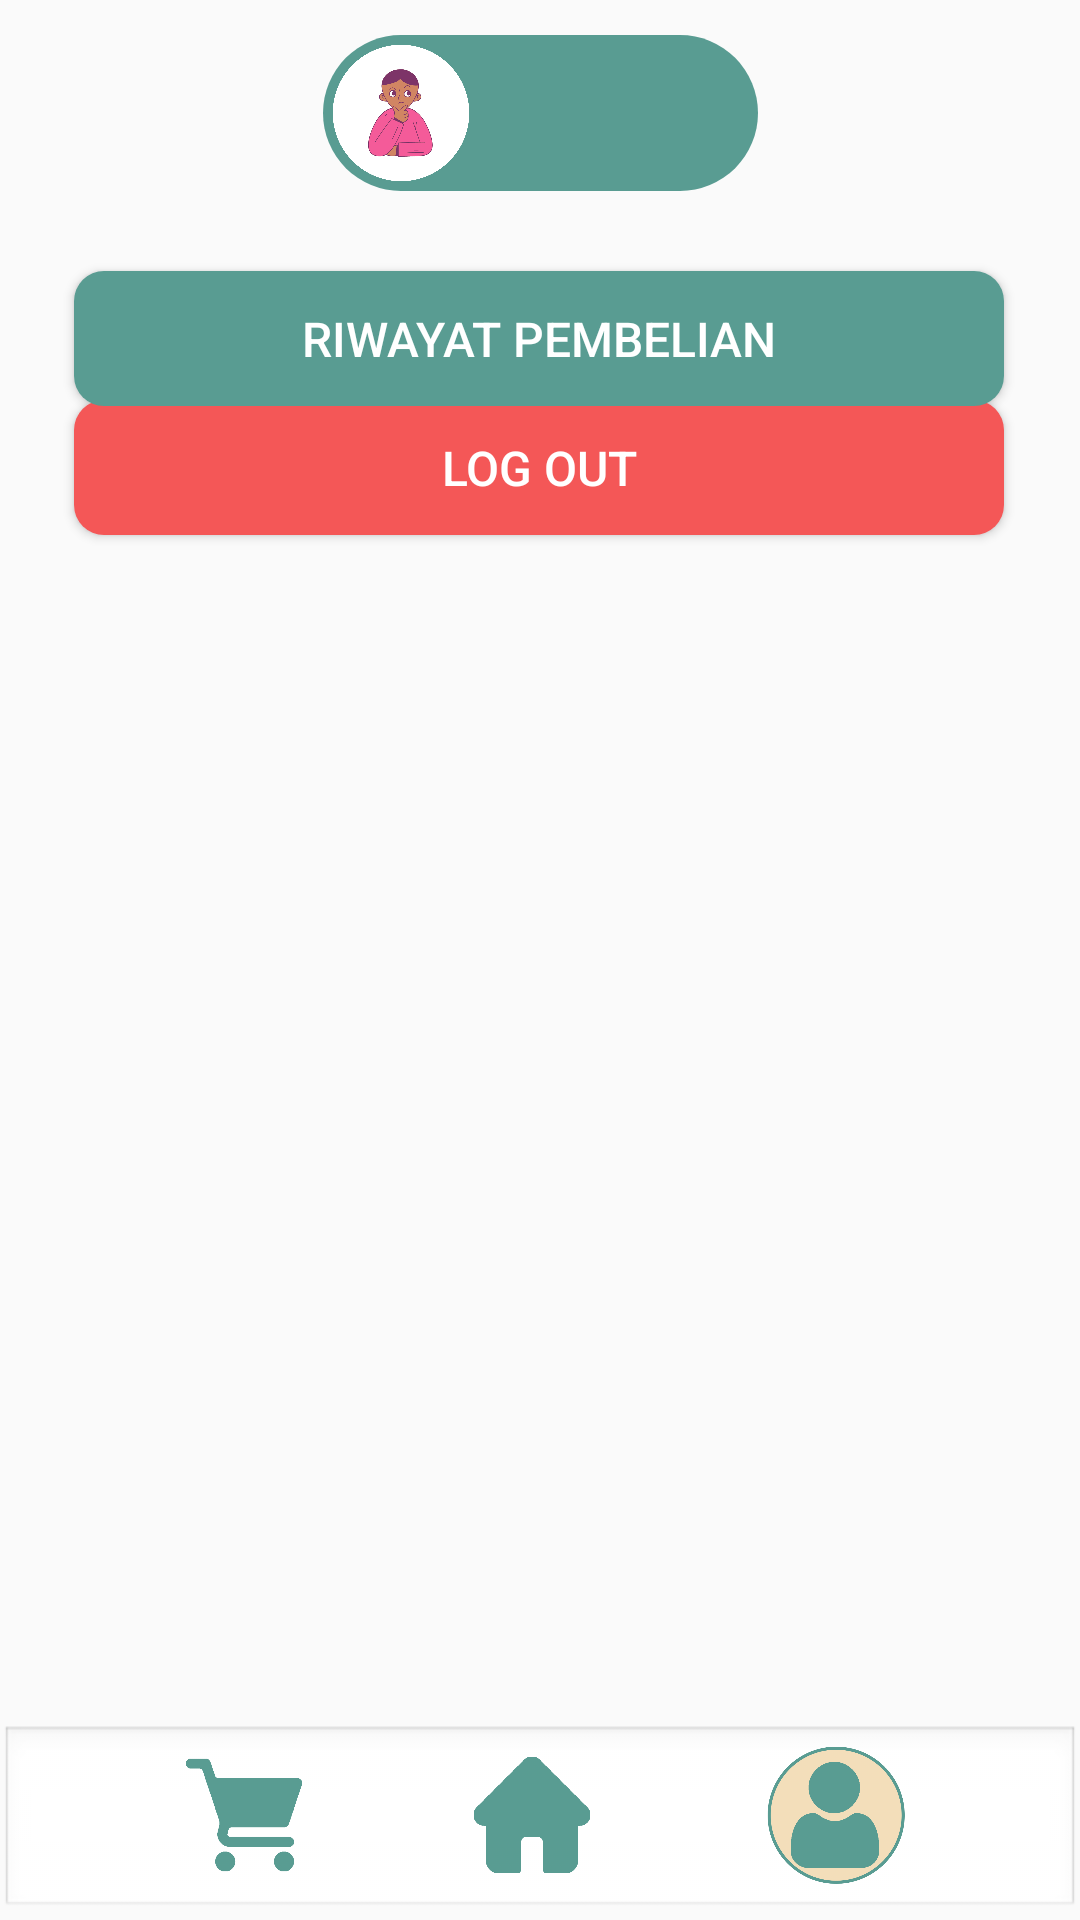

Point at icon controls on the screen. Image size 1080w x 1920h, points as [x,y].
acc chs: [836,1815]
cart: [244,1815]
home: [532,1815]
